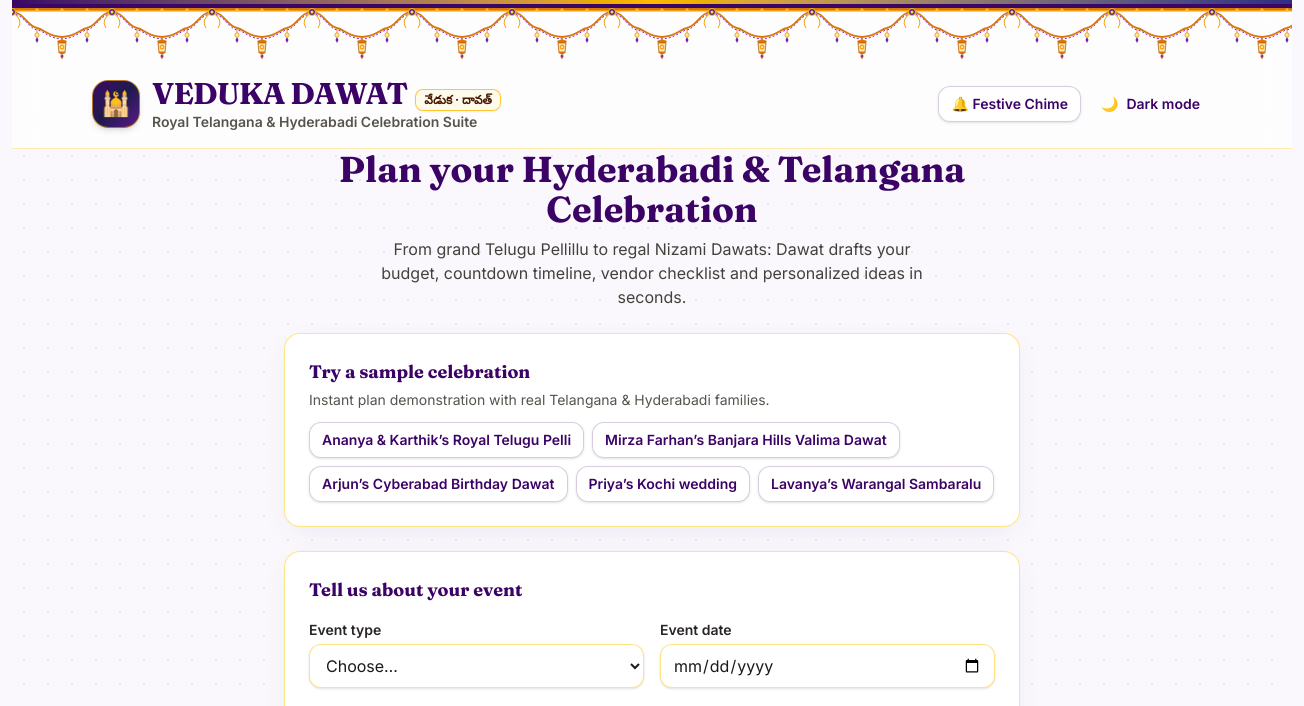
Test case: App (offline judge path) › builds a fallback plan, shows the toast and persists it
Click the button "Arjun’s Cyberabad Birthday Dawat" at (438, 484), box x1=309 y1=466 x2=568 y2=502
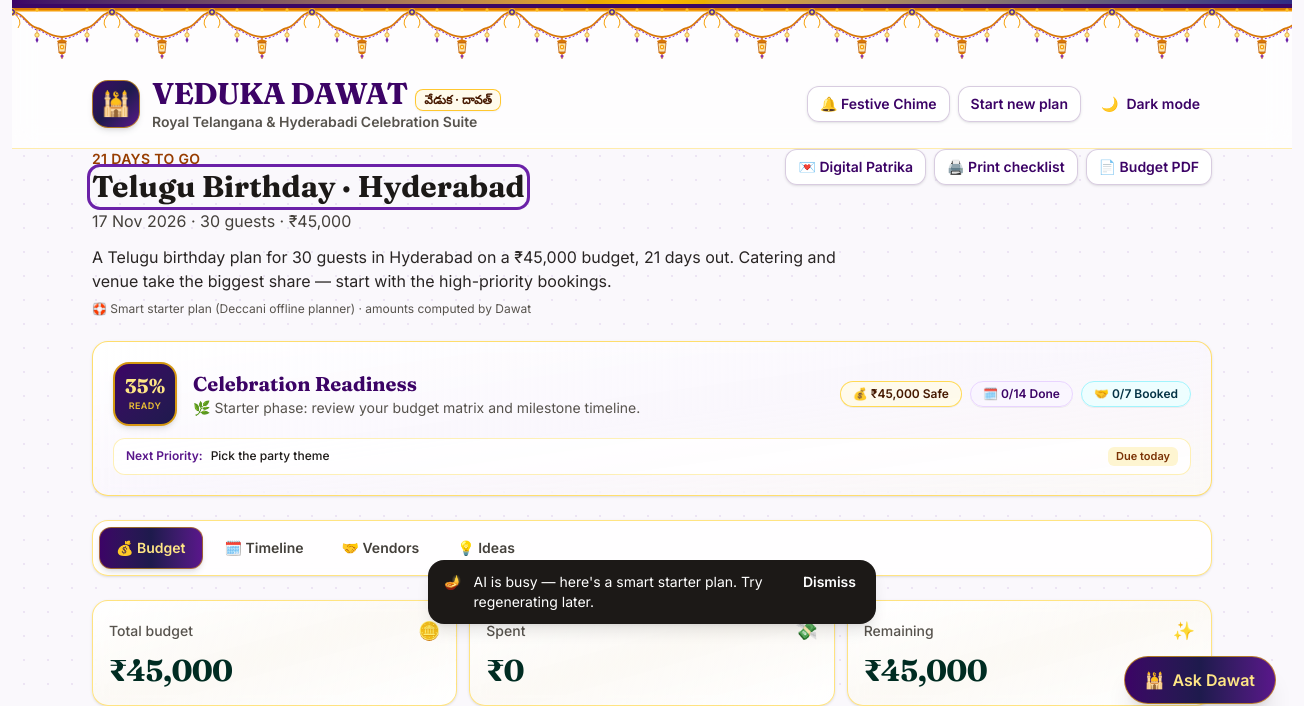
Result: the text "AI is busy — here's a smart starter plan. Try regenerating later." is shown at x1=474 y1=572 x2=787 y2=612
Result: the text "Smart starter plan" is shown at x1=92 y1=301 x2=531 y2=316
